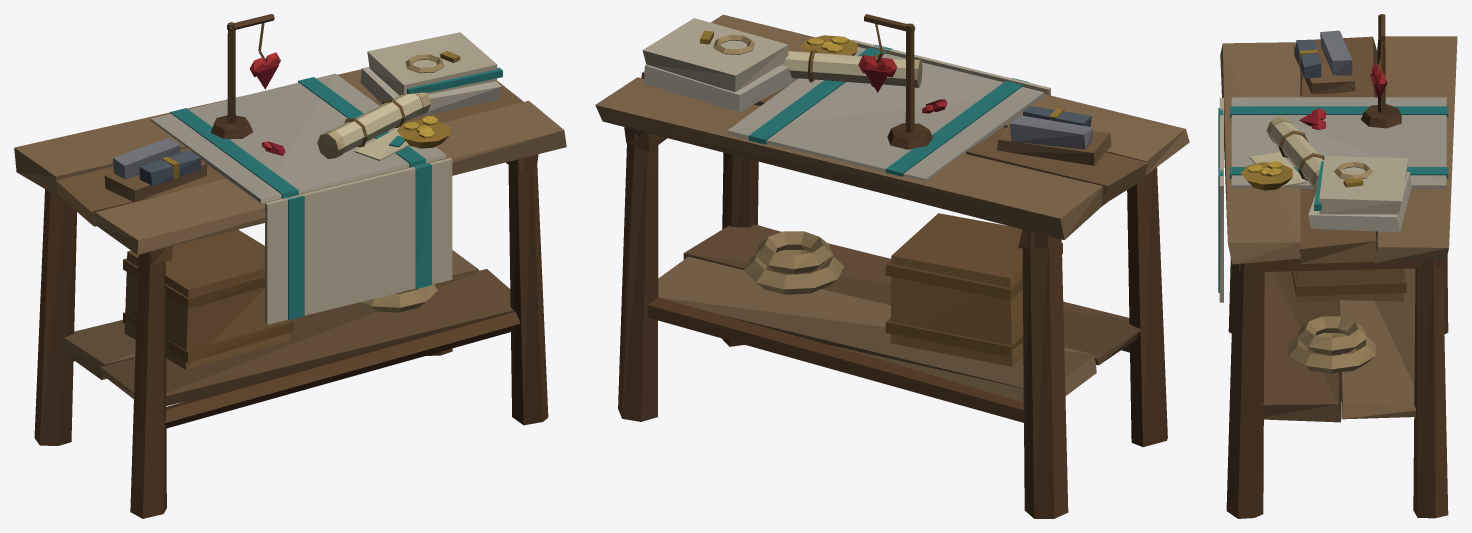
Rendered from trade-counter.glb.
The picture shows the model from 3 angles, left to right: view 1: azimuth 30°, elevation 25°; view 2: azimuth 150°, elevation 25°; view 3: azimuth 270°, elevation 25°; orthographic projection. The views are drawn at different scales.
Parts seen in each view (by area): view 1: trade-counter; view 2: trade-counter; view 3: trade-counter.
Part boxes in pixels (x1,y1,x2,y2): trade-counter: (14,14,566,518); trade-counter: (595,14,1189,518); trade-counter: (1218,14,1457,518).
Size of the model in its own units: 1.38 by 1.2 by 0.6672.
